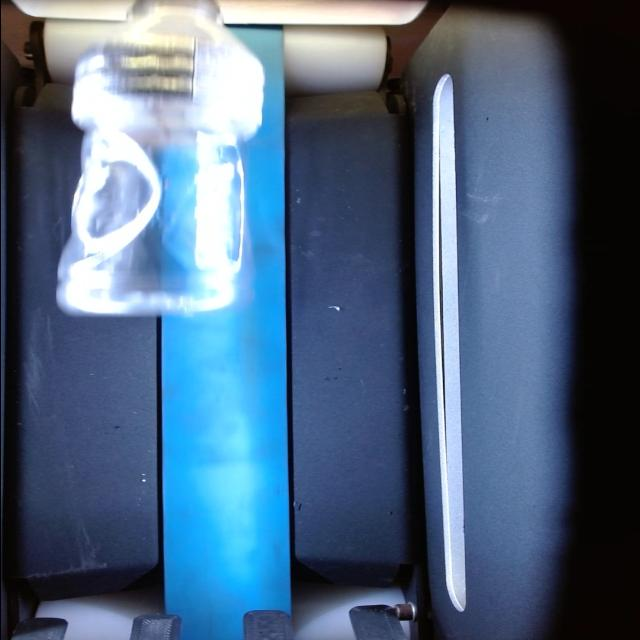bottom: (62, 265, 258, 324)
no_cap: (113, 0, 246, 25)
